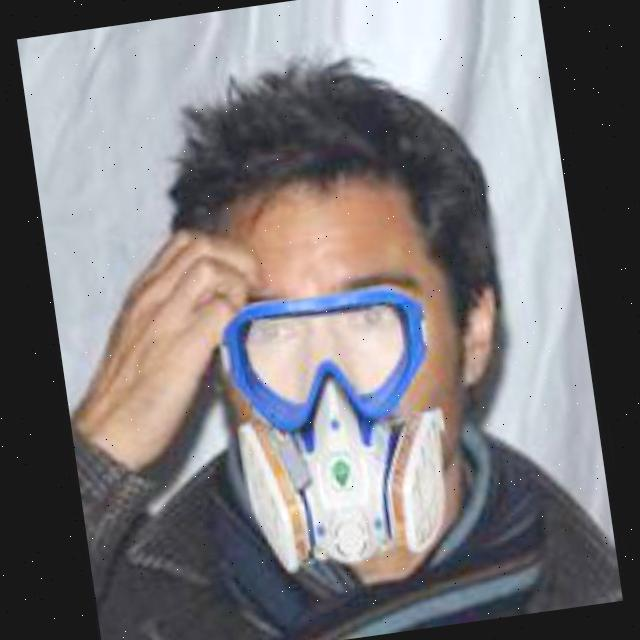suspicion: (154, 113, 516, 563)
